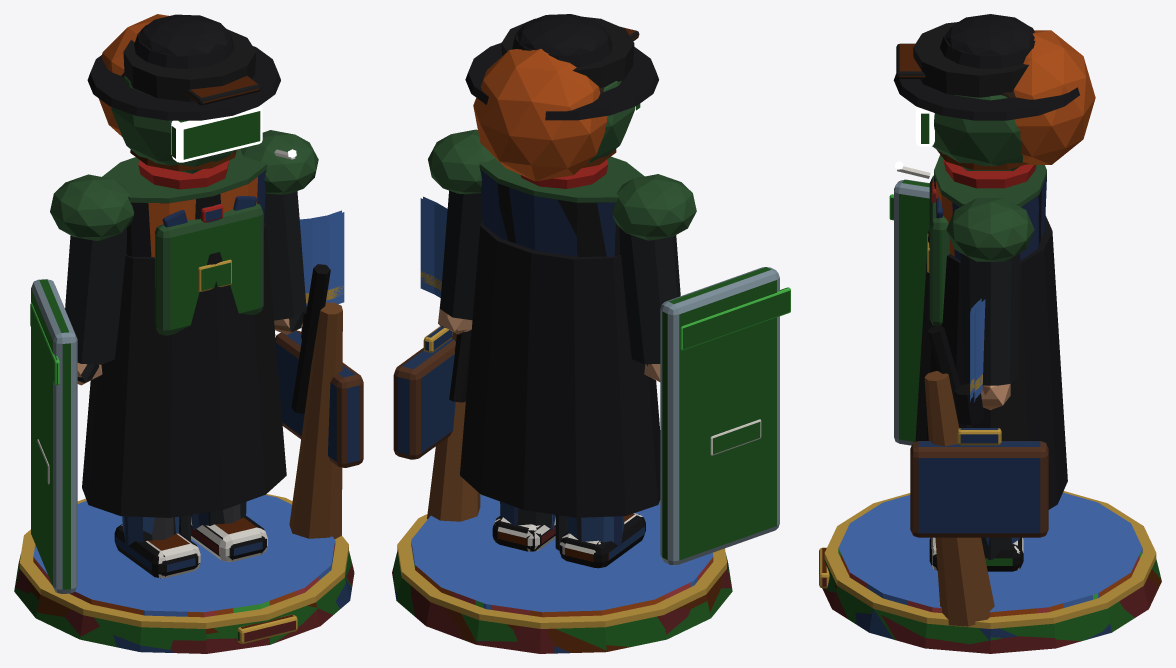
The model's file is truppe.glb.
The picture shows the model from 3 angles, left to right: view 1: azimuth 30°, elevation 25°; view 2: azimuth 150°, elevation 25°; view 3: azimuth 270°, elevation 25°; orthographic projection.
Visible parts, largest first — view 1: Truppa_MANO_NERA, Truppa_ORDINE, Truppa_BIANCHI, Truppa_STRADA, Bandiera_BIANCHI; view 2: Truppa_MANO_NERA, Truppa_ORDINE, Truppa_BIANCHI, Truppa_STRADA, Bandiera_BIANCHI; view 3: Truppa_ORDINE, Truppa_BIANCHI, Truppa_MANO_NERA, Truppa_STRADA, Bandiera_BIANCHI.
Part boxes in pixels (x1,y1,x2,y2): Truppa_MANO_NERA: (15, 14, 354, 653); Truppa_ORDINE: (14, 76, 352, 649); Truppa_BIANCHI: (28, 72, 363, 652); Truppa_STRADA: (17, 14, 342, 643); Bandiera_BIANCHI: (179, 210, 344, 540); Truppa_MANO_NERA: (392, 14, 731, 653); Truppa_ORDINE: (394, 81, 790, 650); Truppa_BIANCHI: (393, 87, 729, 653); Truppa_STRADA: (411, 16, 721, 652); Bandiera_BIANCHI: (420, 196, 567, 550); Truppa_ORDINE: (821, 95, 1161, 644); Truppa_BIANCHI: (838, 91, 1142, 640); Truppa_MANO_NERA: (819, 14, 1158, 653); Truppa_STRADA: (819, 22, 1161, 626); Bandiera_BIANCHI: (970, 298, 985, 402).
Size of the model in its own units: 0.6849 by 1.11 by 0.62.
